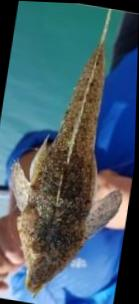fish: (9, 8, 124, 296)
